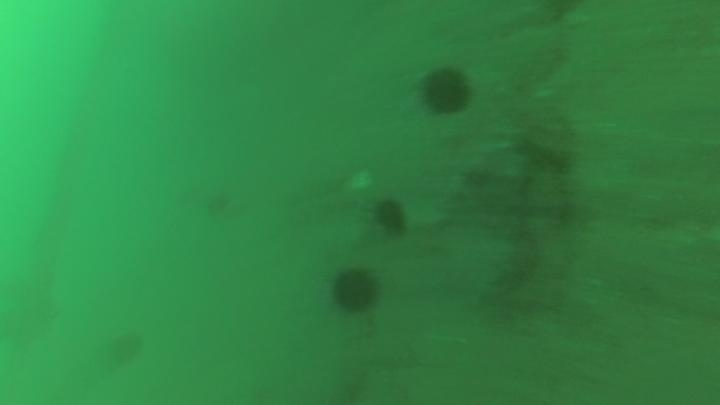echinus: (417, 64, 474, 118), (328, 265, 382, 317), (105, 328, 147, 369), (370, 196, 410, 238)
